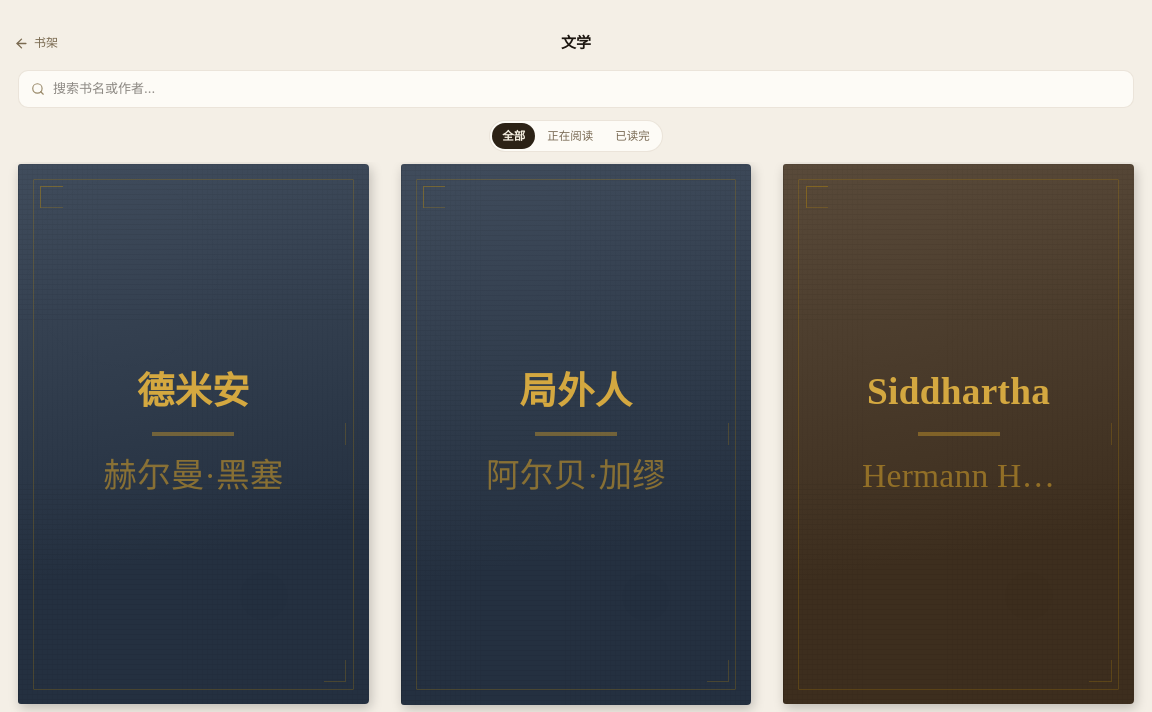
Test: 分类书籍网格页 › 搜不到时给空态，并且不显示任何封面
Type "不存在的书" into the field with placeholder "搜索书名或作者…" at coordinates (587, 89), box [53, 79, 1121, 98]
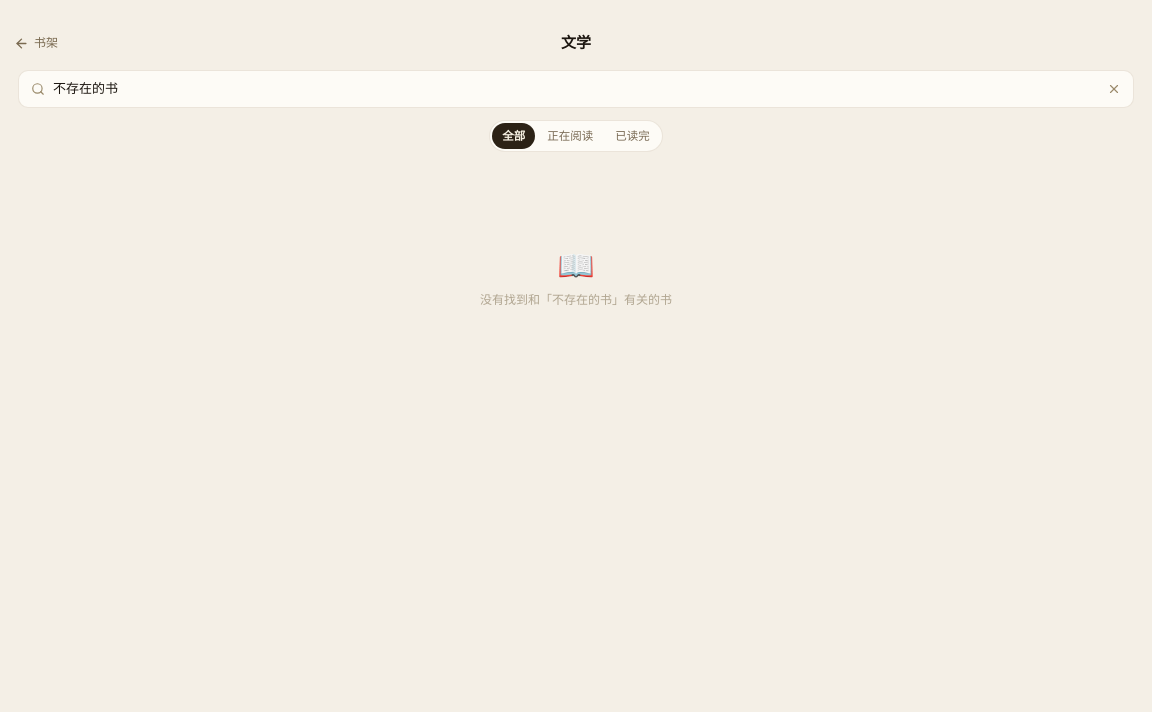
expect the text "没有找到" is shown: met, box [480, 292, 552, 307]
